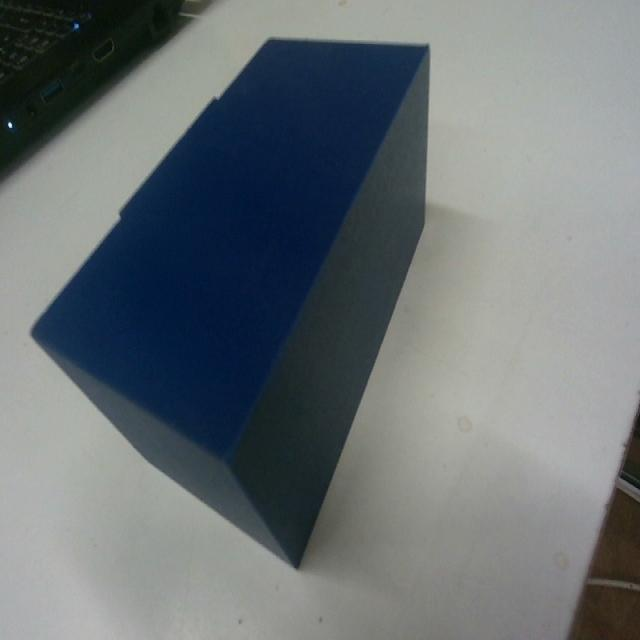Blue Cuboid: (29, 33, 432, 568)
